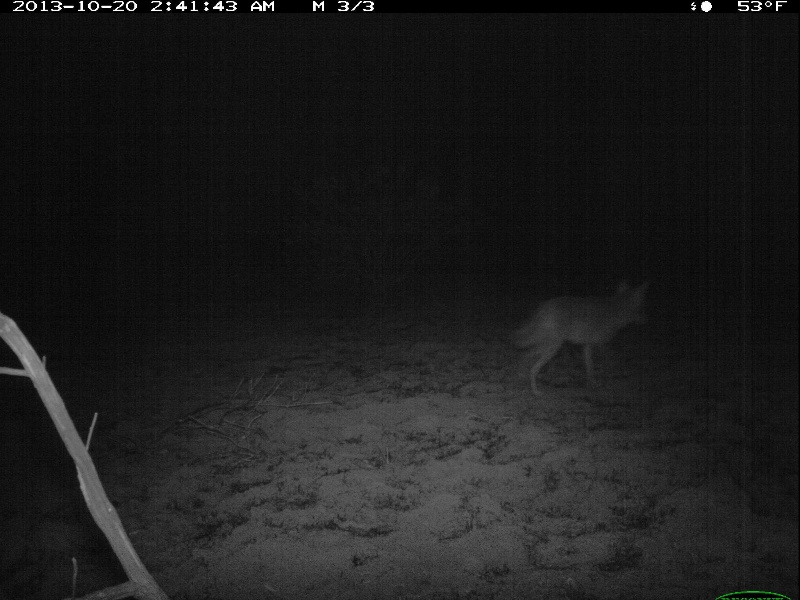coyote: (510, 278, 653, 394)
